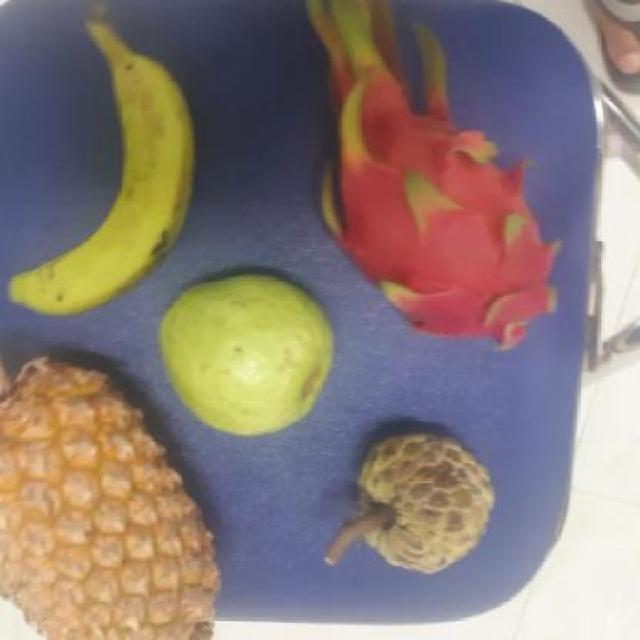banana: (12, 56, 194, 310)
dragon fruit: (314, 76, 571, 347)
guava: (159, 279, 342, 436)
pineapple: (0, 344, 229, 639)
sugar apple: (354, 427, 498, 571)
